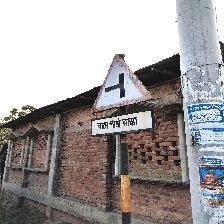Side-road-left: (90, 53, 156, 140)
